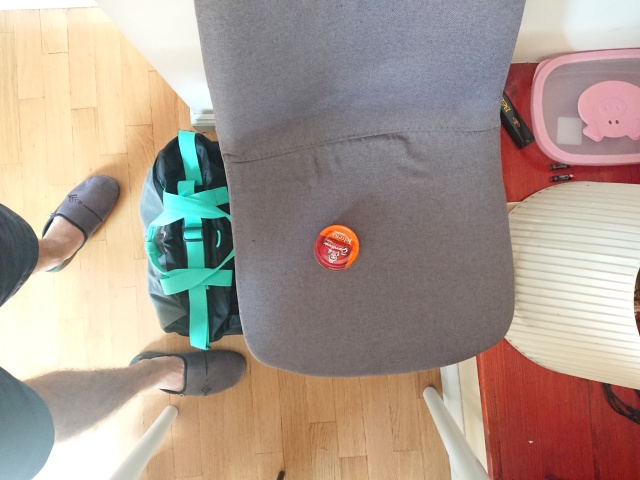Gavrilovic Pork Liver Pate 100g: (312, 223, 360, 272)
